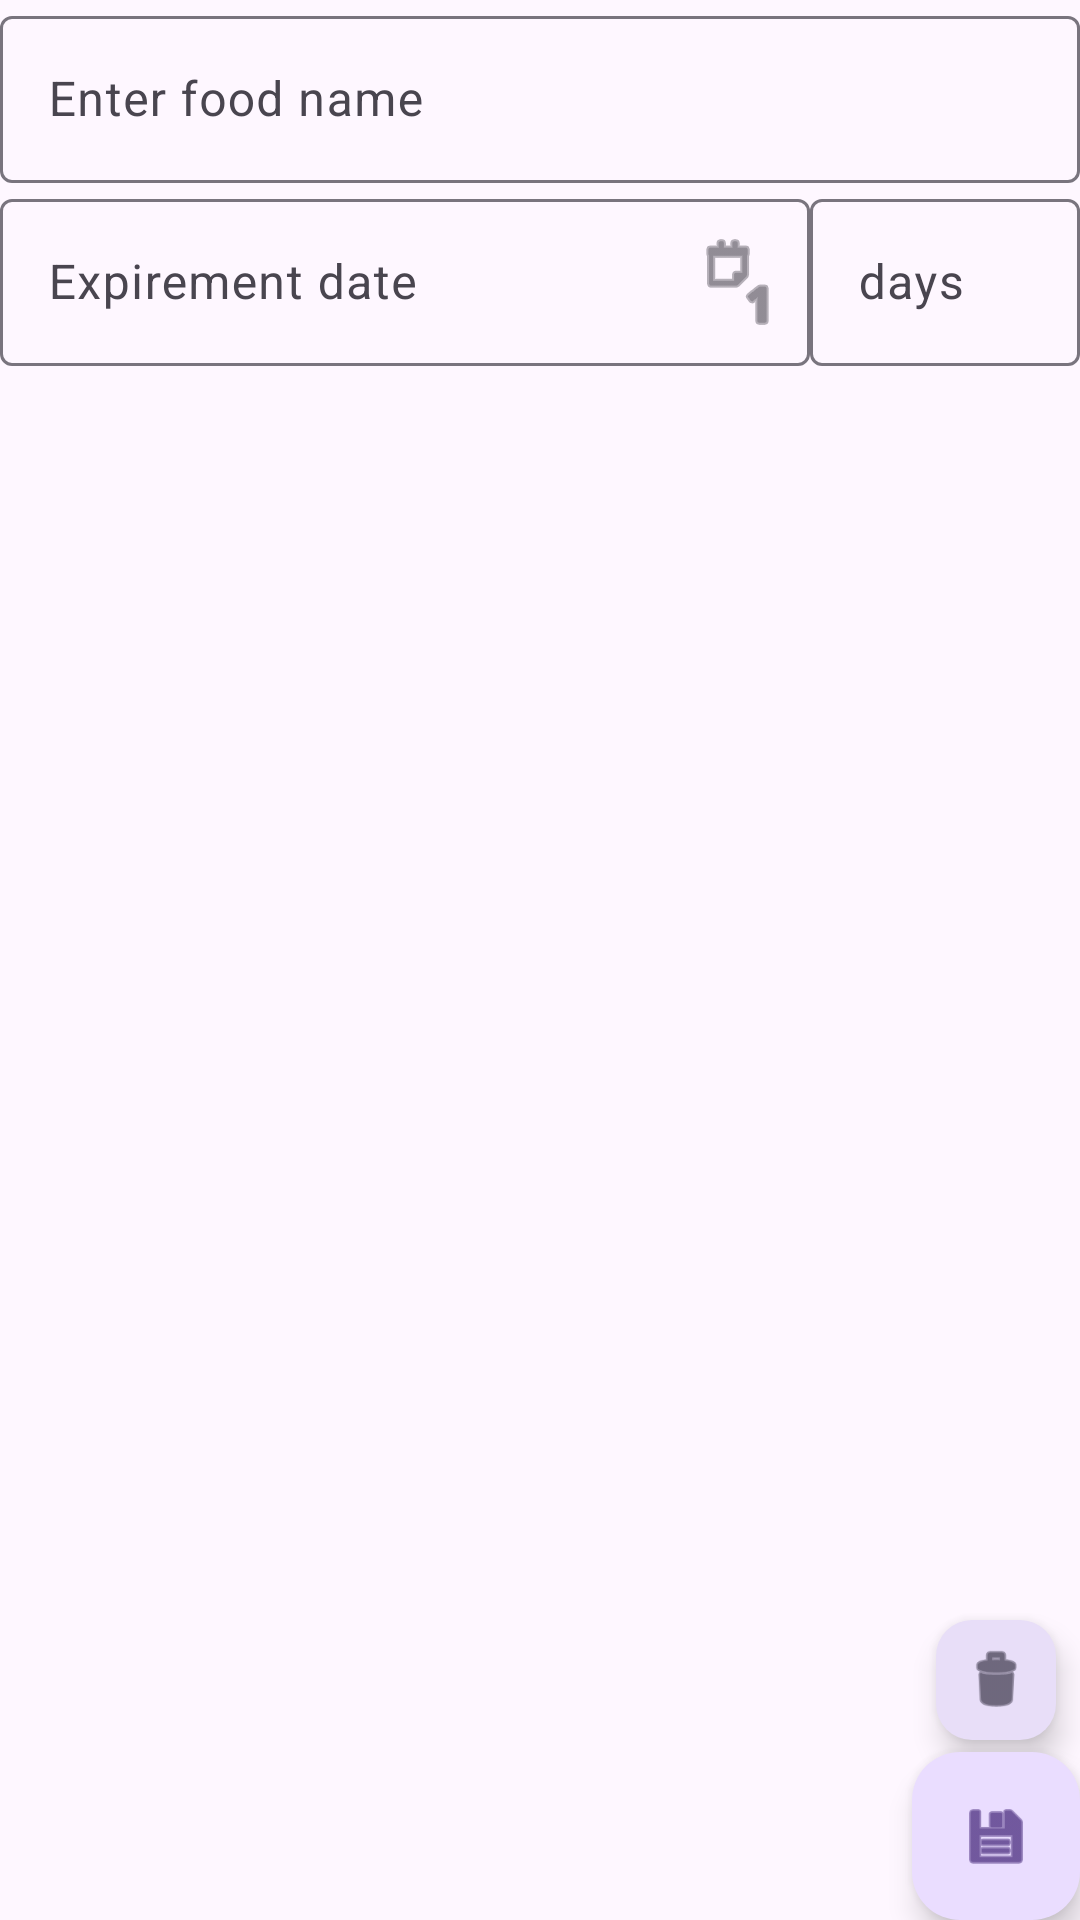

Where icons sit on this 1080×1920 app screen, as (x1, y1, x2, y2):
Confirm creating: (912, 1752, 1080, 1920)
Delete: (931, 1619, 1068, 1752)
